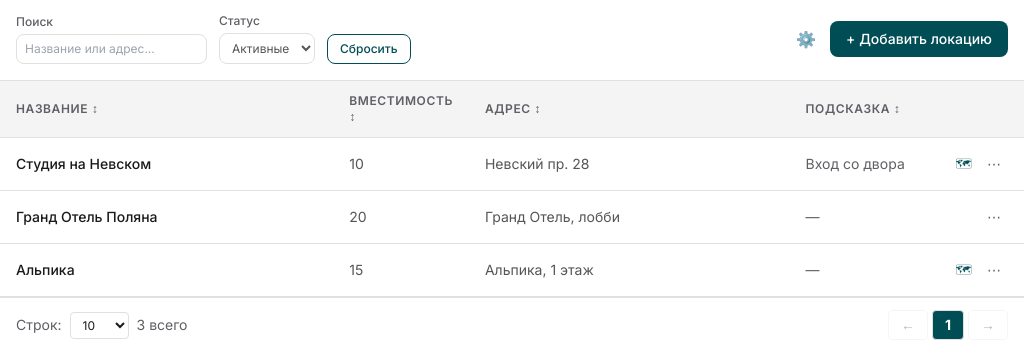
Scenario: LocationsTable › resets search and refetches without q
Expected: the text "Студия на Невском" is shown, [16,155,151,172]
Expected: the text "Гранд Отель Поляна" is shown, [16,208,158,225]
Type "Невском" into the field named "Поиск по названию или адресу" at coordinates (112, 49), box [16,34,207,64]
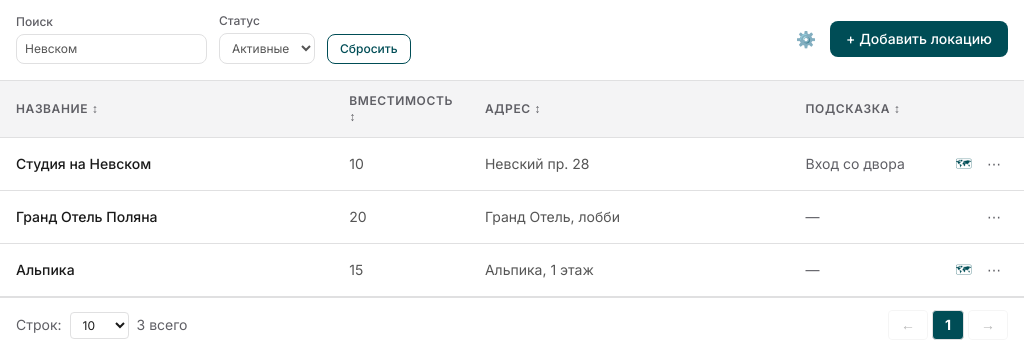
Click the button "Сбросить" at coordinates (369, 49), box [327,34,410,64]
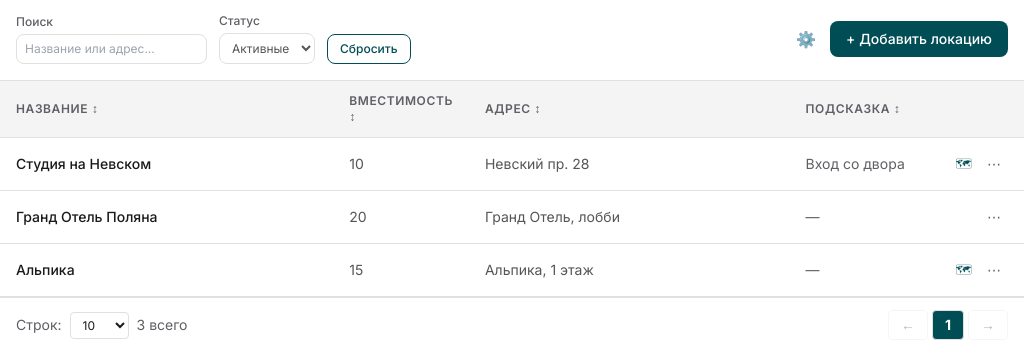
Now the field named "Поиск по названию или адресу" is empty, box [16,34,207,64]
